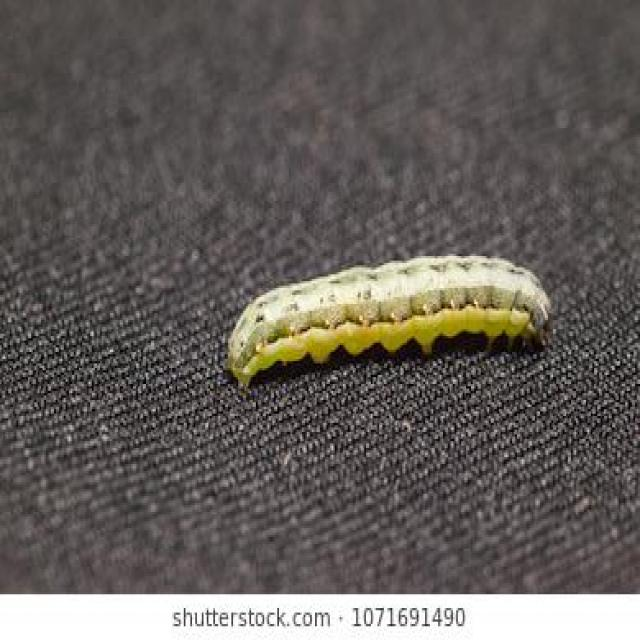BeetArmyWorm-Larva-: (225, 247, 559, 381)
